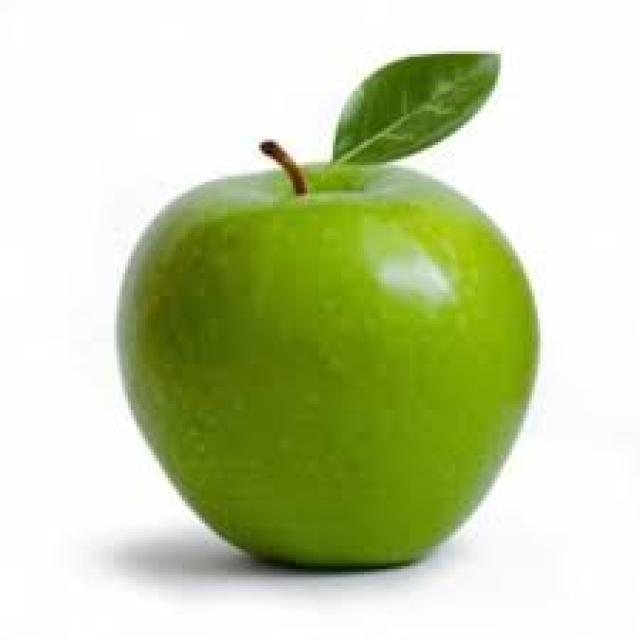Green Apple: (116, 141, 543, 572)
